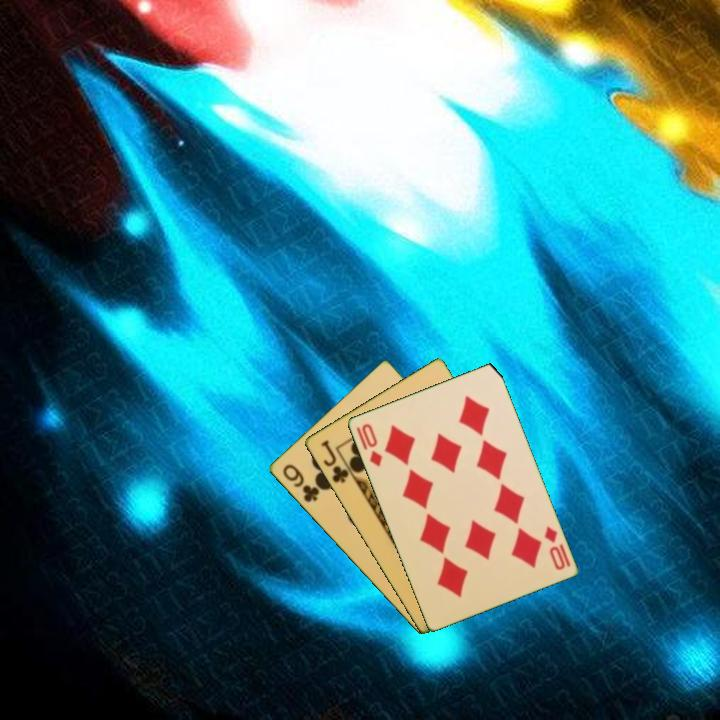10d: (540, 522, 573, 573), (352, 420, 385, 470)
9c: (279, 460, 322, 505)
Jc: (317, 436, 351, 486)
